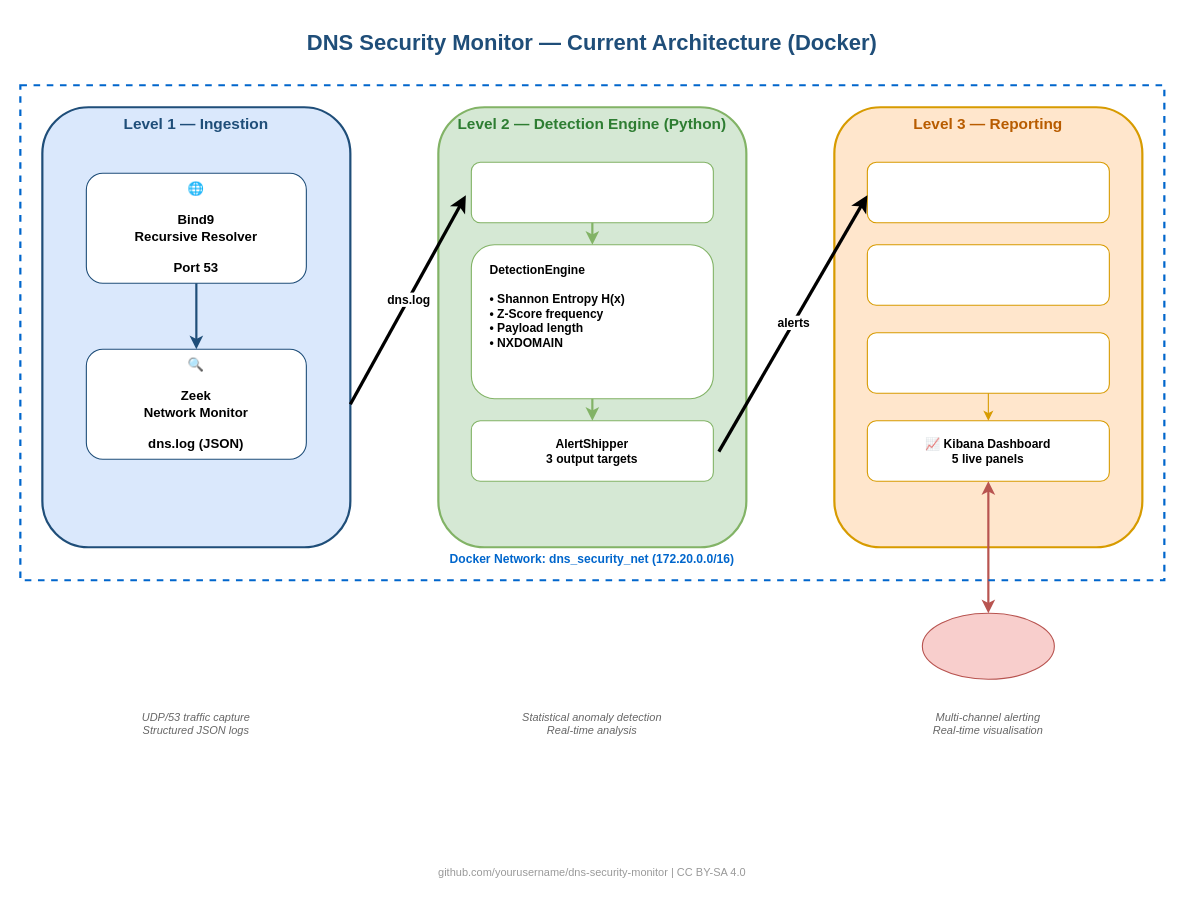
The diagram is 1184 pixels wide and 906 high, and some of its shapes have lost their labels. Each missing label, with the centre of its shape:
"LogReader tail() + parse_line()" belongs at pixel 591 192.
"👤 Security Analyst" belongs at pixel 987 645.
"📄 CSV Report dns_security_report.csv" belongs at pixel 987 192.
"📊 HTML Dashboard Self-refresh 5s" belongs at pixel 987 274.
"🗄️ Elasticsearch dns-alerts index" belongs at pixel 987 362.
